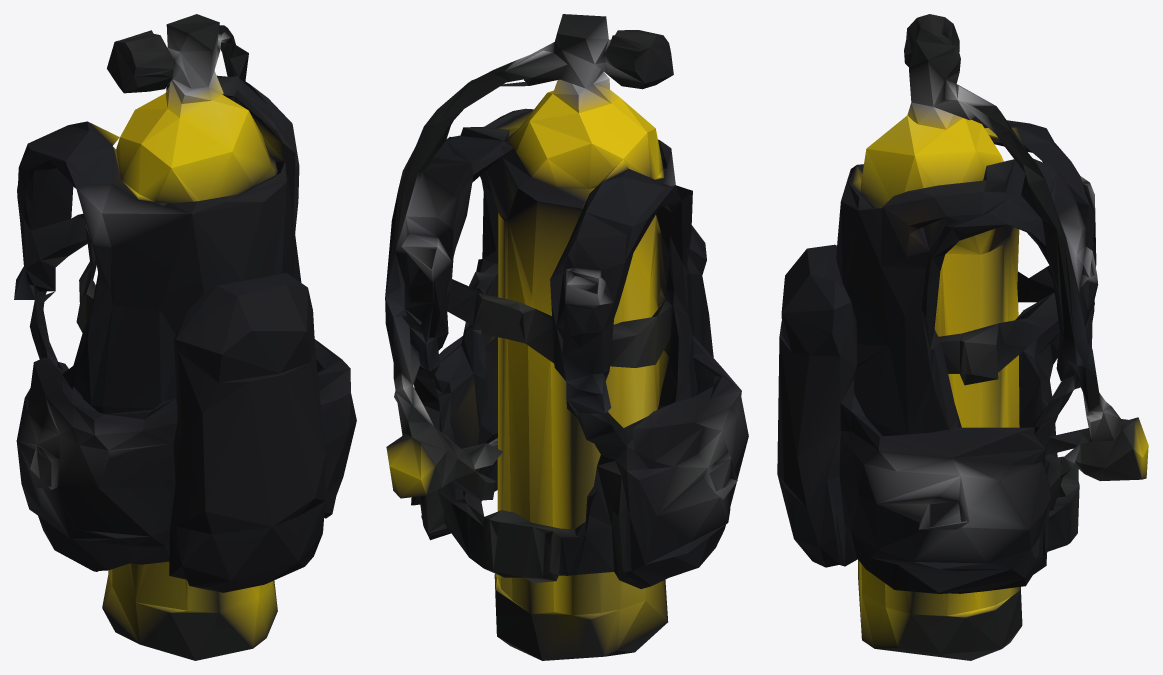
File: scuba_tank.glb
3 views of the same model, side by side, from view 1: azimuth 30°, elevation 25°; view 2: azimuth 150°, elevation 25°; view 3: azimuth 270°, elevation 25° (orthographic). The views are drawn at different scales.
Size of the model in its own units: 0.9751 by 1.89 by 1.09.
